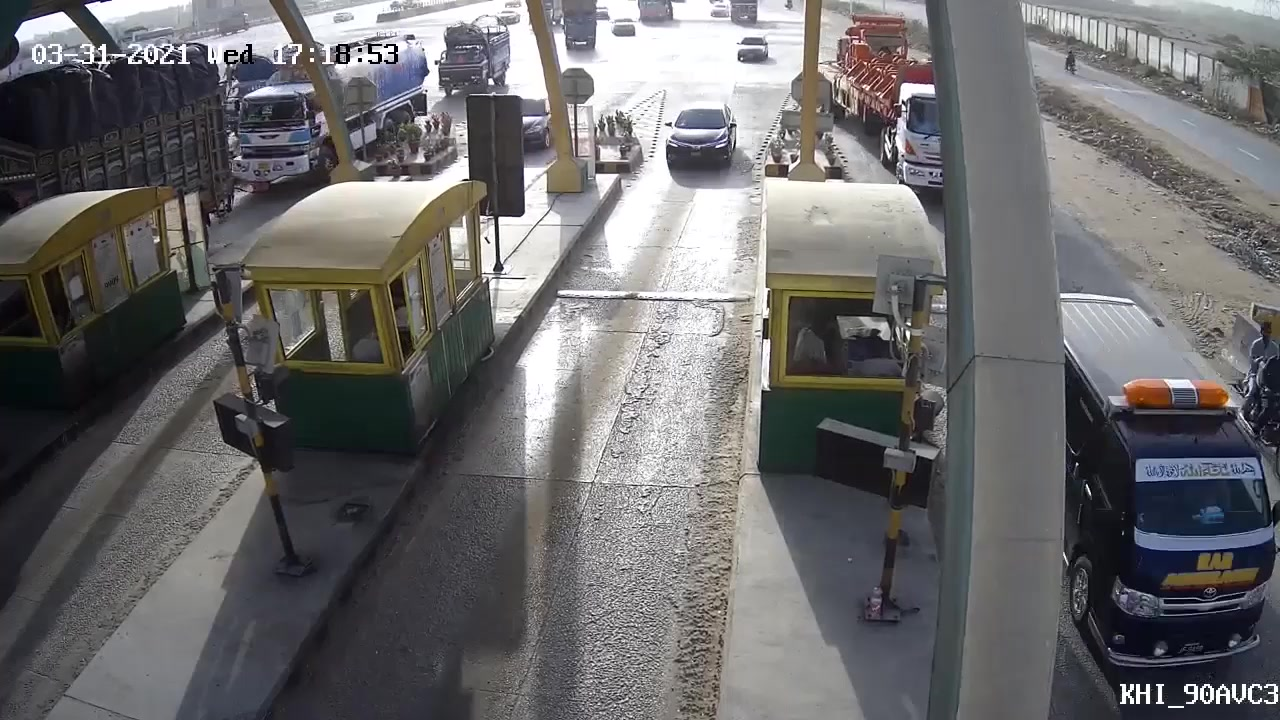F1: (652, 86, 744, 196)
